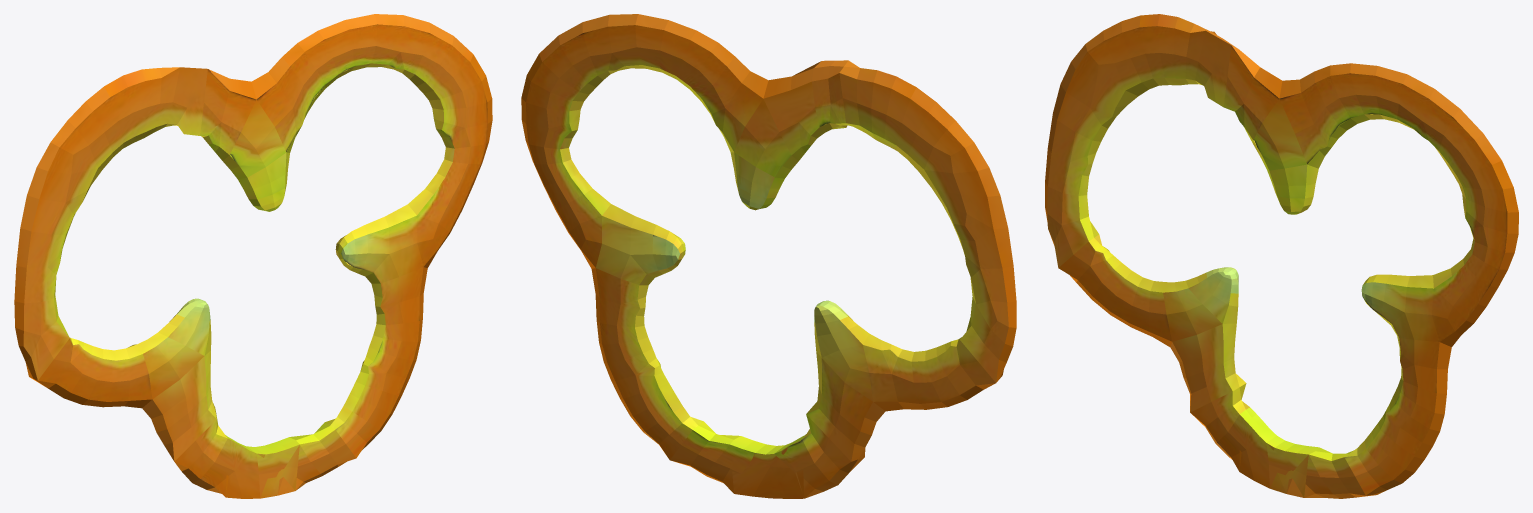
File: ardel.fbx
3 renders of one model, left to right at view 1: azimuth 30°, elevation 25°; view 2: azimuth 150°, elevation 25°; view 3: azimuth 330°, elevation 25°, orthographic. The views are drawn at different scales.
Parts seen in each view (by area): view 1: Cube; view 2: Cube; view 3: Cube.
Boxes of the visible parts, left/top/right/bottom form: Cube: left=14, top=14, right=492, bottom=498; Cube: left=521, top=14, right=1016, bottom=498; Cube: left=1045, top=14, right=1518, bottom=498.
Size of the model in its own units: 374 by 335 by 24.13.
